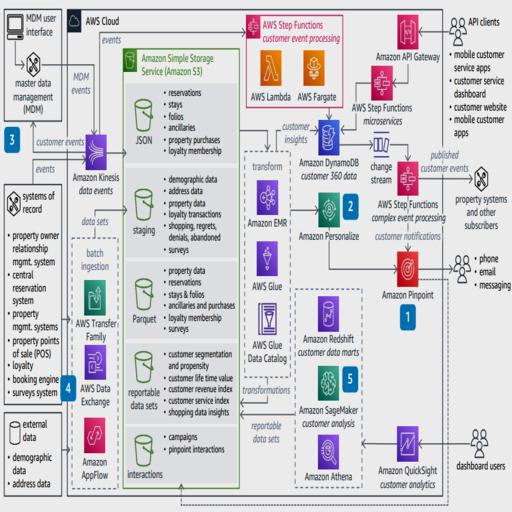actor: (5, 179, 56, 384), (5, 420, 56, 481), (450, 169, 502, 220), (450, 246, 502, 297), (5, 52, 56, 102), (450, 56, 502, 98), (450, 10, 502, 51), (450, 430, 502, 471), (5, 10, 56, 41)
api_gateway: (386, 16, 412, 56)
compute: (250, 41, 282, 82), (76, 133, 108, 174), (250, 174, 282, 215), (312, 184, 343, 226), (312, 358, 343, 400), (250, 246, 282, 286), (297, 41, 328, 82), (312, 430, 343, 471), (384, 430, 415, 471), (371, 62, 397, 92), (371, 154, 397, 184)
data_flow: (144, 484, 400, 489), (397, 276, 402, 482), (94, 38, 254, 44), (372, 307, 376, 461), (90, 41, 94, 133), (216, 304, 276, 310), (216, 448, 276, 453), (269, 138, 274, 190), (414, 166, 456, 172), (397, 180, 402, 230), (338, 212, 379, 218), (216, 372, 276, 376), (216, 382, 276, 386), (420, 448, 461, 453), (414, 264, 456, 268), (274, 130, 300, 136), (356, 130, 382, 136), (51, 141, 82, 146), (51, 110, 82, 115), (430, 69, 461, 74), (141, 456, 146, 486), (28, 38, 33, 64), (105, 141, 131, 146), (51, 162, 82, 166), (430, 34, 461, 38), (236, 202, 256, 208), (287, 202, 307, 208), (236, 192, 256, 197), (397, 46, 402, 66), (374, 448, 394, 453), (290, 88, 294, 108), (236, 264, 256, 268)
database_storage: (314, 112, 340, 154), (314, 286, 340, 328), (130, 97, 156, 128), (130, 435, 156, 466), (130, 190, 156, 220), (130, 282, 156, 312), (130, 364, 156, 394)
network_security: (79, 286, 105, 328), (79, 414, 105, 456), (79, 354, 105, 394), (386, 246, 412, 286)
trust_boundary: (66, 8, 486, 494), (112, 36, 236, 486), (66, 233, 118, 494), (297, 282, 358, 486), (240, 156, 292, 336), (241, 31, 343, 92)
